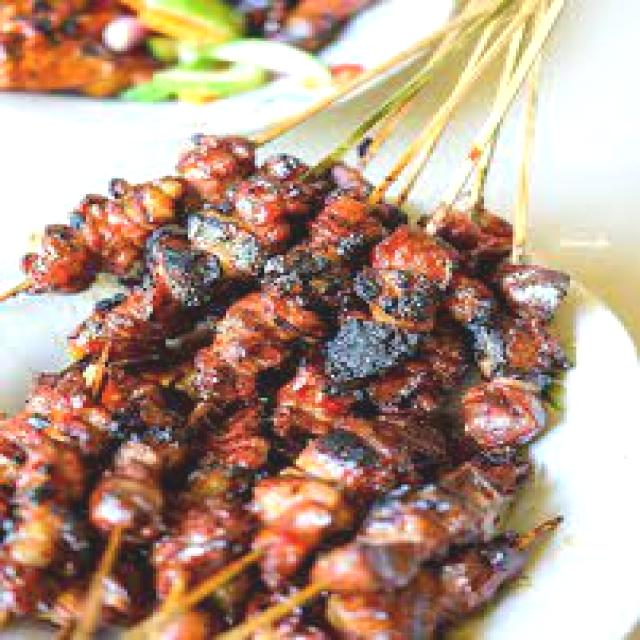sate: (0, 0, 573, 640)
